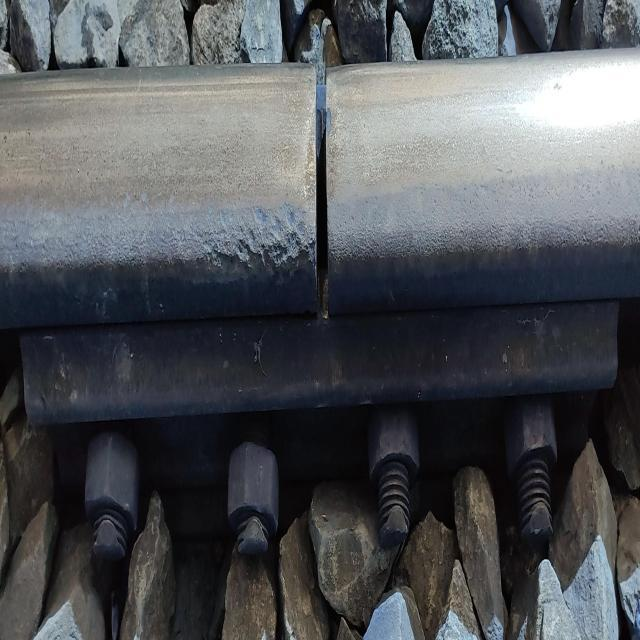Good Joint: (20, 301, 640, 564)
